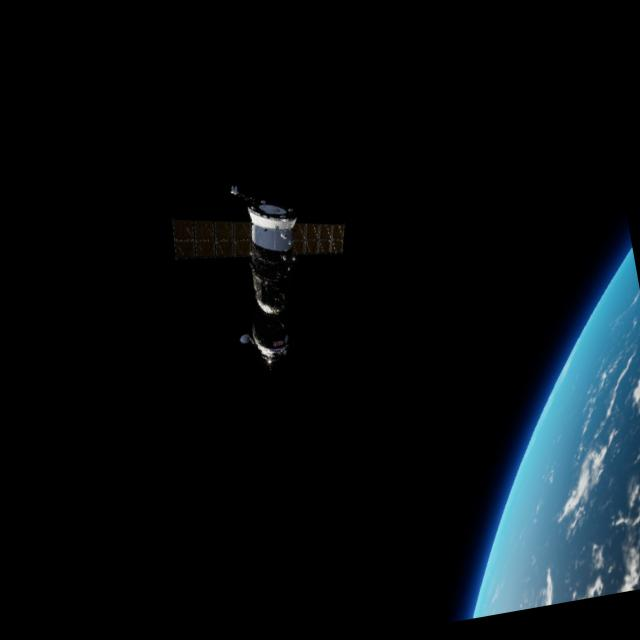Satellites revolving around earth: (410, 244, 640, 617), (160, 164, 370, 384)
